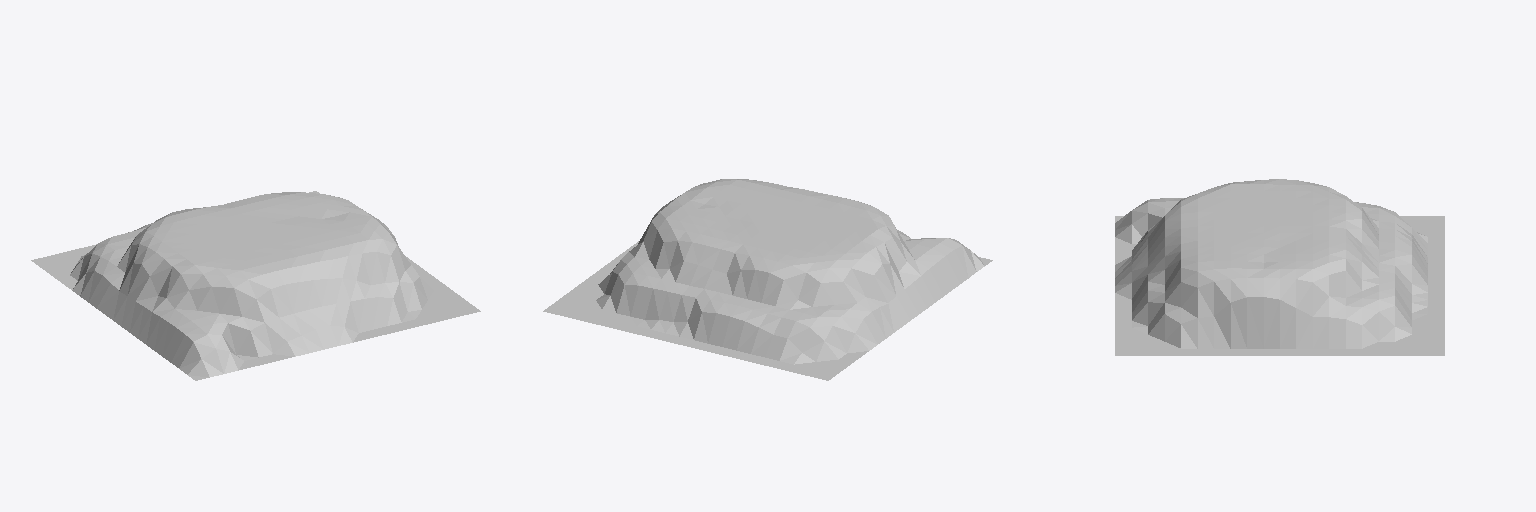
File: missile base.obj
The picture shows the model from 3 angles: view 1: azimuth 30°, elevation 25°; view 2: azimuth 150°, elevation 25°; view 3: azimuth 270°, elevation 25°; orthographic projection.
Visible parts, largest first — view 1: pPlane1; view 2: pPlane1; view 3: pPlane1.
Part boxes in pixels (x1,y1,x2,y2): pPlane1: (31,191,480,380); pPlane1: (543,179,992,380); pPlane1: (1115,179,1444,355).
Bounding box in the file's own units: 10 × 2 × 10.